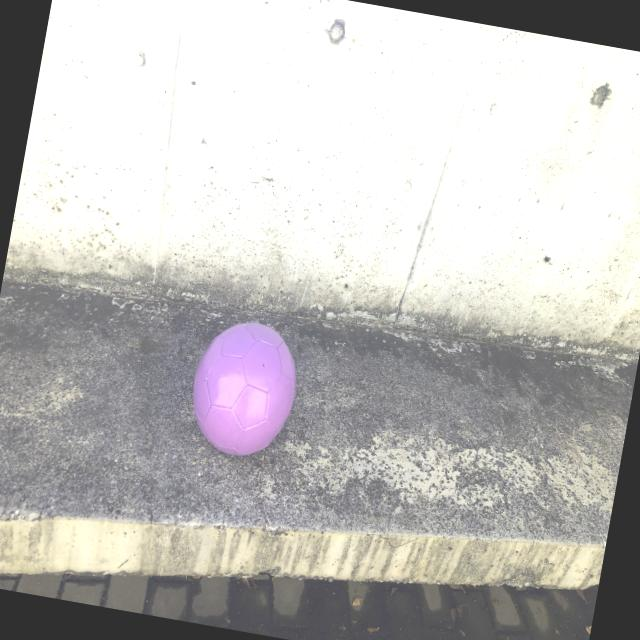purple_ball: (181, 318, 303, 464)
